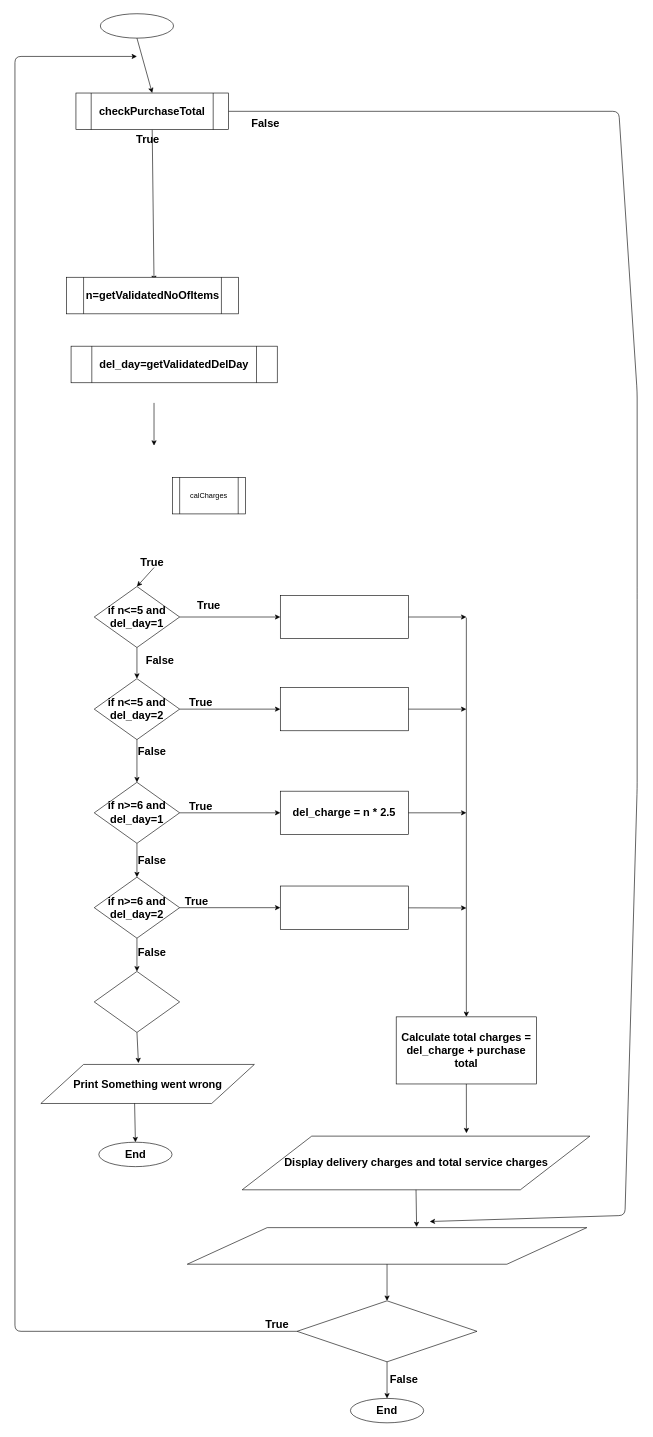
Image size: 653x1437. Some labels were removed from this diagram. The shapes that lost their labels are listed below. From the top down, each one's box as (x1, y1, x2, y2) in pixels, then its label:
(100, 13, 174, 38): Start
(280, 595, 408, 638): del_charge = 8
(280, 687, 408, 731): del_charge = n * 1.5
(280, 885, 408, 929): del_charge = n * 1.2
(94, 971, 180, 1032): else
(187, 1227, 587, 1264): Input Asking the user to calculate another purchase(y/n)
(296, 1300, 477, 1362): If another purchase = y or Y
